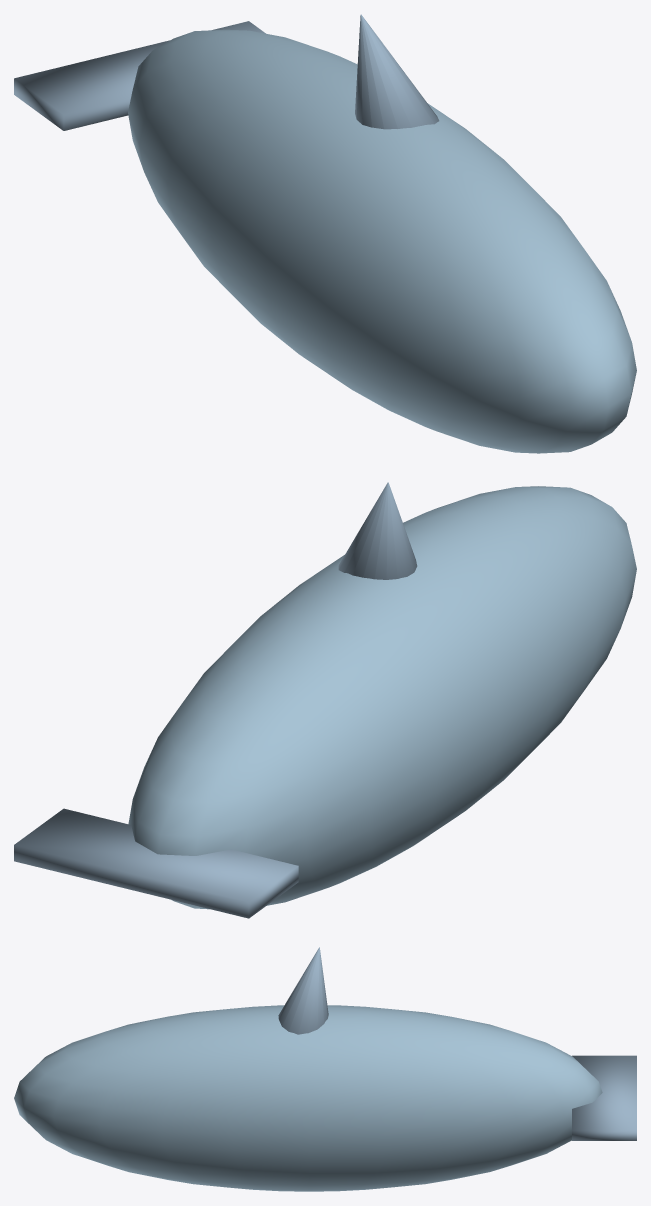
File: dolphin.glb
3 renders of one model, top to bottom at view 1: azimuth 30°, elevation 25°; view 2: azimuth 150°, elevation 25°; view 3: azimuth 270°, elevation 25°, orthographic. The views are drawn at different scales.
Parts seen in each view (by area): view 1: body, fluke, dorsal; view 2: body, fluke, dorsal; view 3: body, fluke, dorsal.
Part boxes in pixels (box(x1,y1,x2,y2)): body: box(128, 29, 636, 453); fluke: box(14, 21, 265, 130); dorsal: box(355, 14, 439, 129); body: box(128, 486, 636, 909); fluke: box(14, 808, 298, 918); dorsal: box(338, 482, 417, 579); body: box(14, 1005, 602, 1191); fluke: box(572, 1055, 636, 1140); dorsal: box(278, 947, 328, 1034).
Bounding box in the file's own units: 0.6 × 0.8682 × 2.11.
